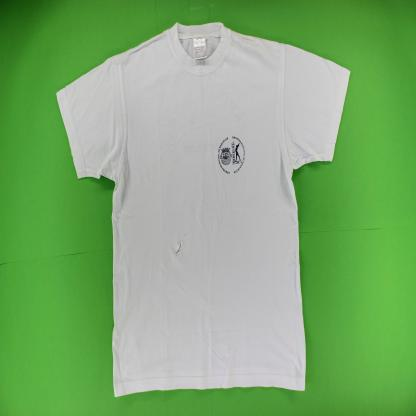hole: (174, 229, 190, 258)
